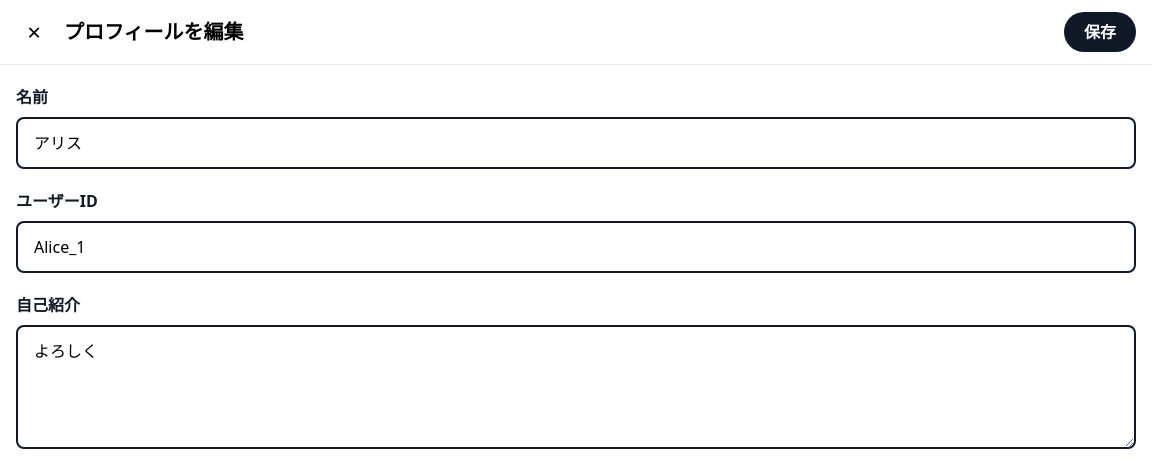
ProfileEditForm › 保存中は「保存中…」と表示してボタンを無効にし、二重送信しない
Step 1. Click the button "保存" → (1100, 32), box left=1064, top=12, right=1136, bottom=52
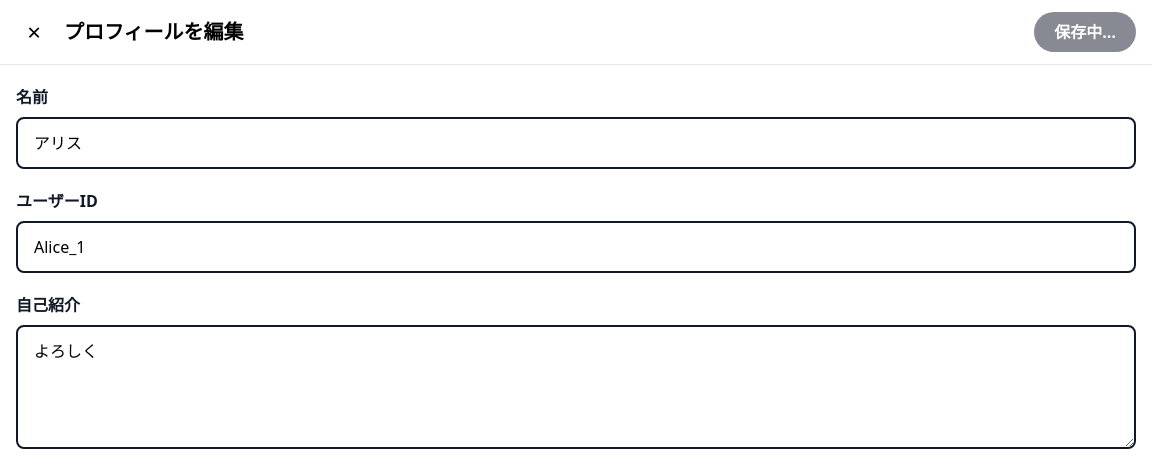
Check: the button "保存中…" is disabled
Step 2. Click the button "保存中…" → (1085, 32), box left=1034, top=12, right=1136, bottom=52
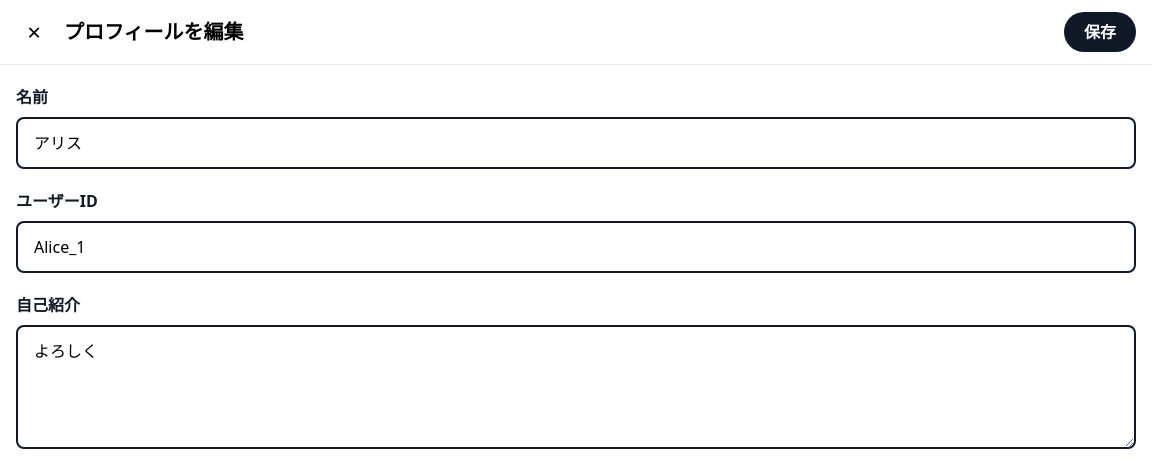
Check: the button "保存" is enabled, box left=1064, top=12, right=1136, bottom=52
